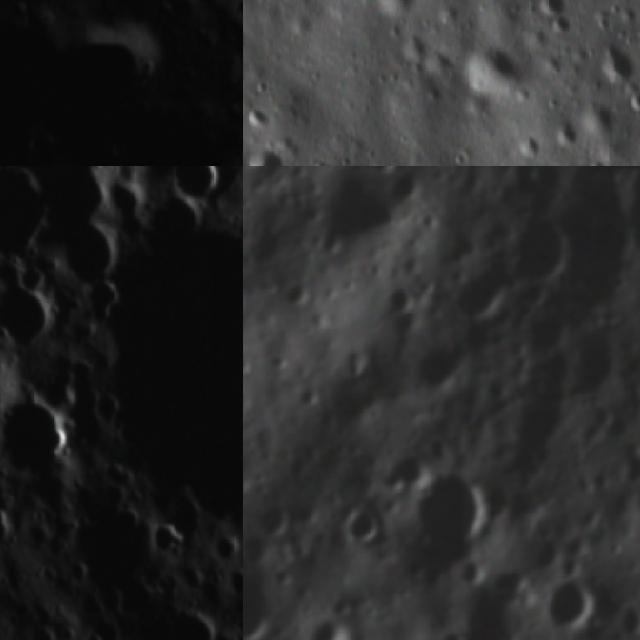crater: (97, 211, 243, 520), (37, 10, 188, 144), (543, 171, 640, 309), (413, 466, 497, 549), (0, 386, 73, 479), (41, 214, 120, 294), (499, 211, 571, 287), (327, 189, 405, 257), (563, 332, 627, 410), (0, 277, 59, 361), (456, 28, 520, 101), (544, 572, 604, 634), (165, 166, 236, 217), (450, 268, 513, 324), (243, 567, 278, 640), (338, 500, 384, 550), (418, 347, 463, 398), (588, 29, 630, 80), (390, 444, 428, 494), (611, 438, 640, 497), (218, 8, 243, 73), (243, 127, 284, 166), (606, 597, 640, 640), (384, 280, 422, 318), (526, 0, 567, 33), (258, 500, 292, 538), (307, 614, 356, 640), (389, 171, 426, 204), (287, 278, 313, 312), (232, 94, 243, 145)
